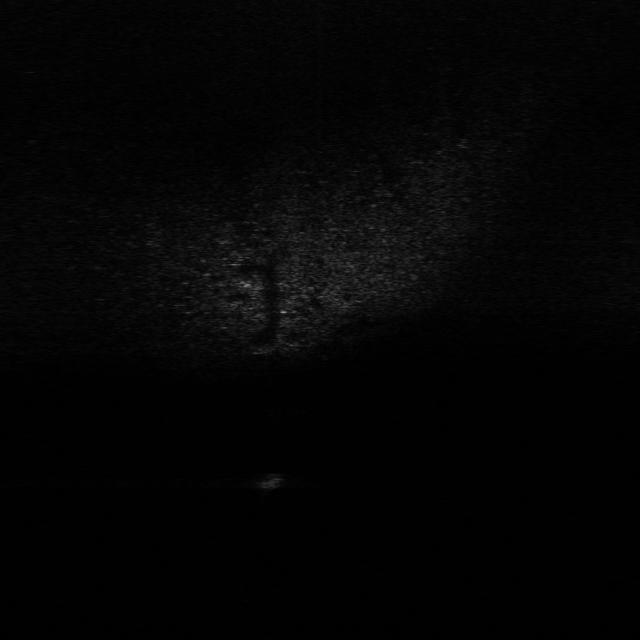cylinder: (257, 466, 284, 491)
